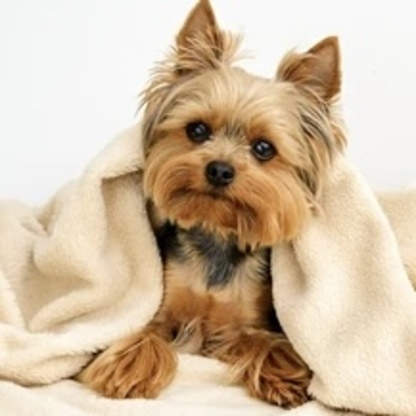yorkshire: (91, 2, 350, 409)
